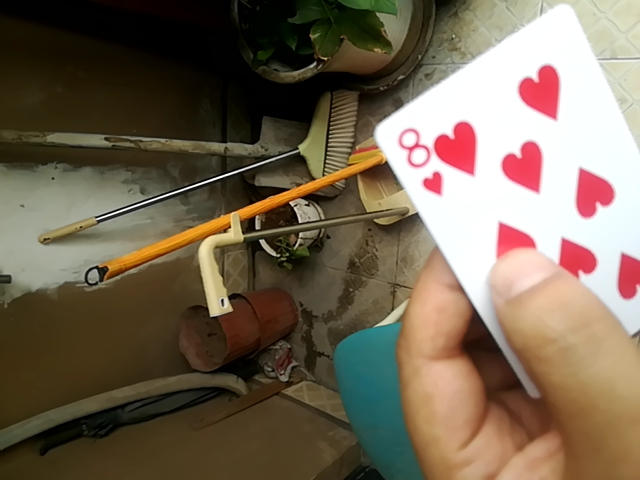hx 8: (371, 5, 640, 341)
